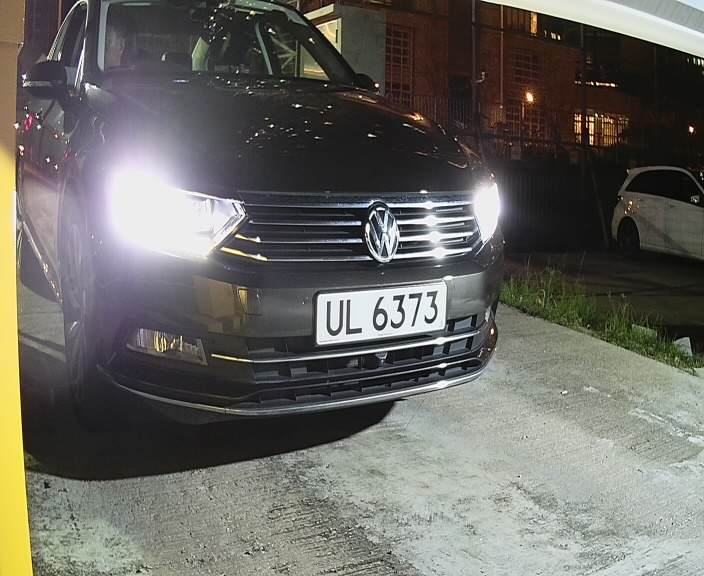License Plate: (310, 281, 455, 353)
